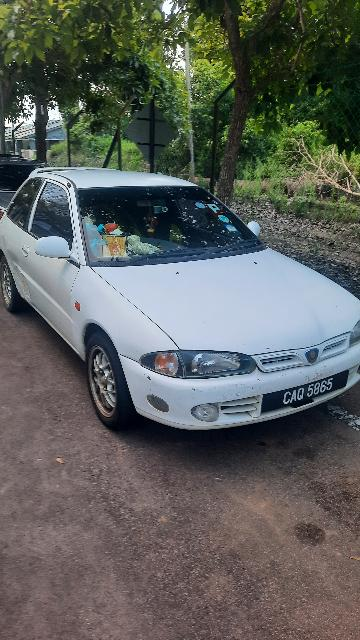License_Plate: (264, 369, 355, 417)
car: (1, 166, 360, 437)
